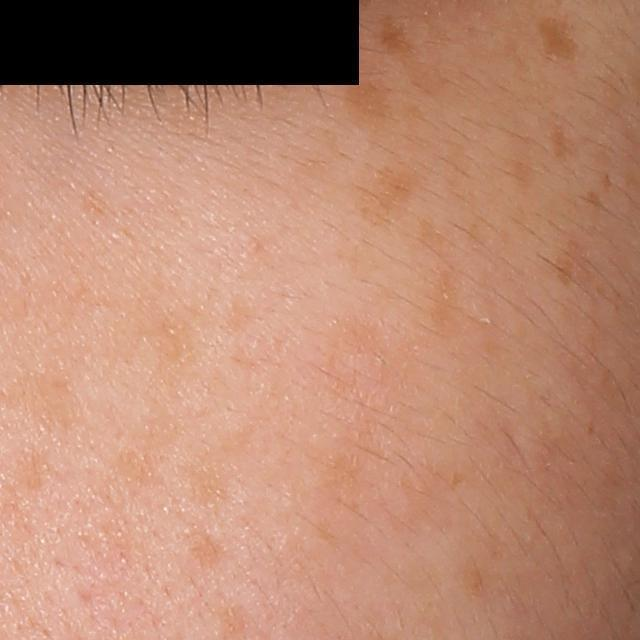melasma: (110, 289, 201, 373), (404, 215, 461, 335), (379, 10, 448, 100), (351, 163, 423, 226), (332, 73, 393, 135), (117, 444, 168, 492), (536, 15, 583, 63), (548, 122, 583, 167), (79, 184, 111, 221), (581, 188, 606, 209), (602, 171, 613, 191)
